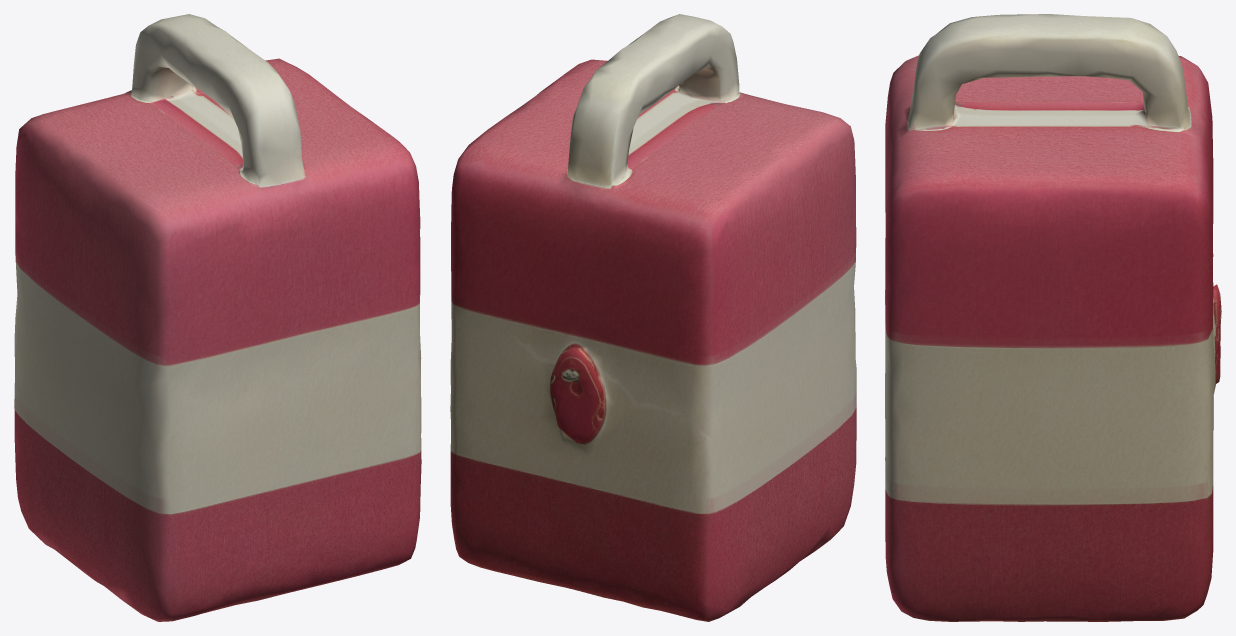
The model's file is P_GiftBox_h32.fbx.
3 views of the same model, side by side, from view 1: azimuth 30°, elevation 25°; view 2: azimuth 150°, elevation 25°; view 3: azimuth 270°, elevation 25° (orthographic). The views are drawn at different scales.
Parts seen in each view (by area): view 1: texture_mapping; view 2: texture_mapping; view 3: texture_mapping.
Part boxes in pixels (x1,y1,x2,y2): texture_mapping: (14,14,421,621); texture_mapping: (450,14,856,621); texture_mapping: (885,14,1221,621).
Size of the model in its own units: 58.43 by 99.41 by 56.63.
1 material, 1 textured.
